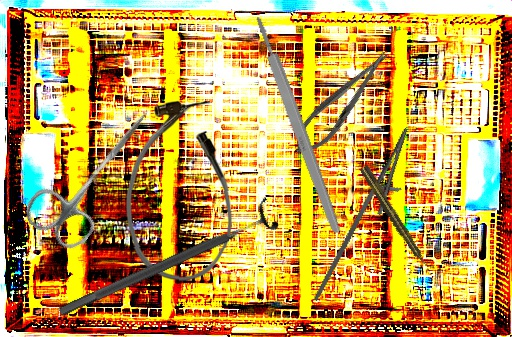Cannula: (124, 98, 236, 283)
Fixation Ring: (52, 196, 281, 329)
Handpiece: (359, 164, 430, 270)
Iris Scissors: (18, 87, 173, 258)
Needle Holder: (312, 119, 423, 315), (285, 42, 399, 164)
Scalpel Handle: (252, 14, 344, 236)
